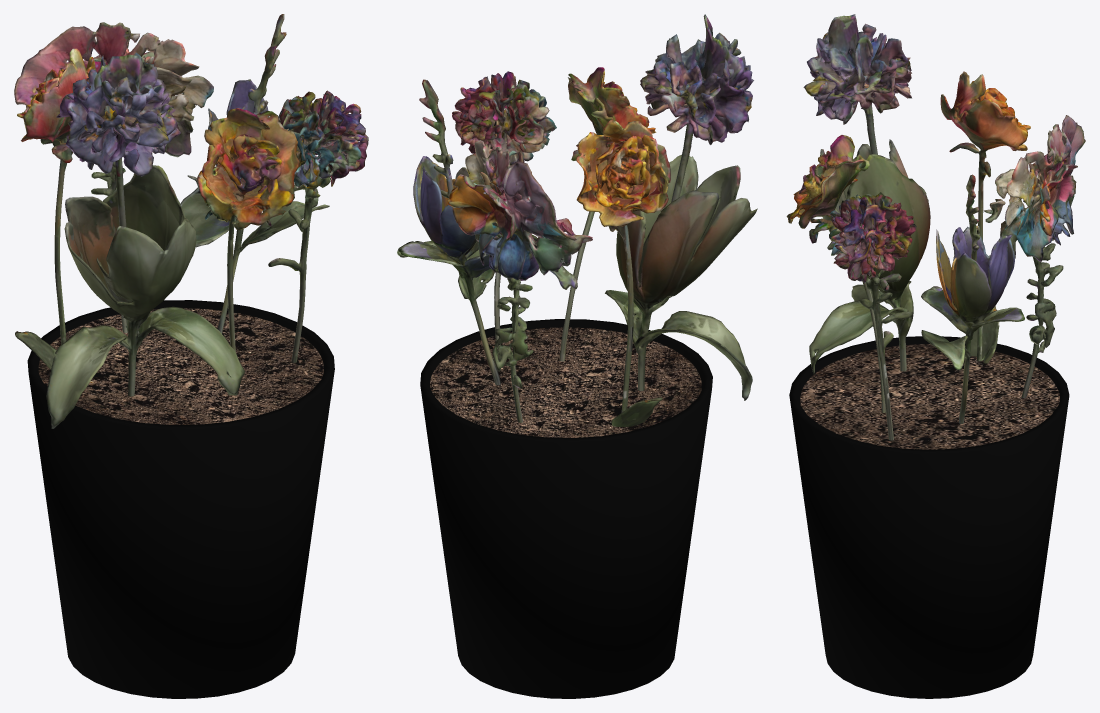
File: colored_flowers.glb
3 renders of one model, left to right at view 1: azimuth 30°, elevation 25°; view 2: azimuth 150°, elevation 25°; view 3: azimuth 270°, elevation 25°, orthographic. The views are drawn at different scales.
Parts seen in each view (by area): view 1: vase, flower4, terrain, flower5, flower2, flower6, flower1, flower3; view 2: vase, flower4, terrain, flower2, flower1, flower3, flower6, flower5; view 3: vase, terrain, flower4, flower2, flower3, flower6, flower1, flower5.
Boxes of the visible parts, x1,y1,x2,y2 form: vase: (27,300,334,698); flower4: (46,52,244,428); terrain: (38,308,323,424); flower5: (197,108,299,351); flower2: (14,22,213,332); flower6: (268,90,368,362); flower1: (15,48,96,369); flower3: (180,14,329,333); vase: (420,319,712,698); flower4: (605,14,757,400); terrain: (430,327,701,437); flower2: (447,140,592,422); flower1: (576,120,670,427); flower3: (397,79,577,385); flower6: (452,71,556,349); flower5: (559,67,656,361); vase: (789,336,1069,698); terrain: (800,344,1059,449); flower4: (803,14,930,374); flower2: (984,115,1085,398); flower3: (921,174,1024,423); flower6: (827,192,916,440); flower1: (940,71,1030,363); flower5: (786,135,885,412).
Size of the model in its own units: 2.44 by 4.67 by 2.12.
Materials: 3 (2 with a texture image).
